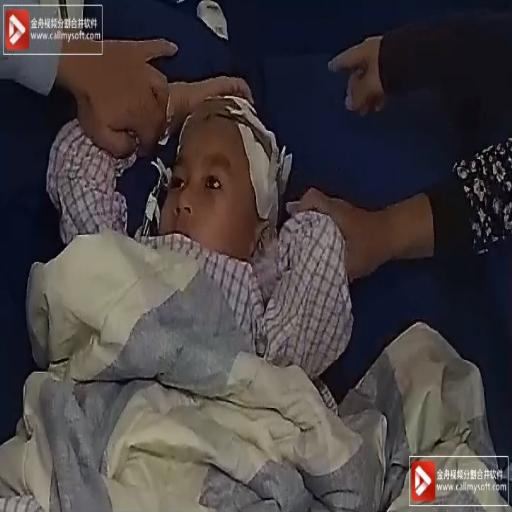Seizure: (161, 128, 282, 304)
